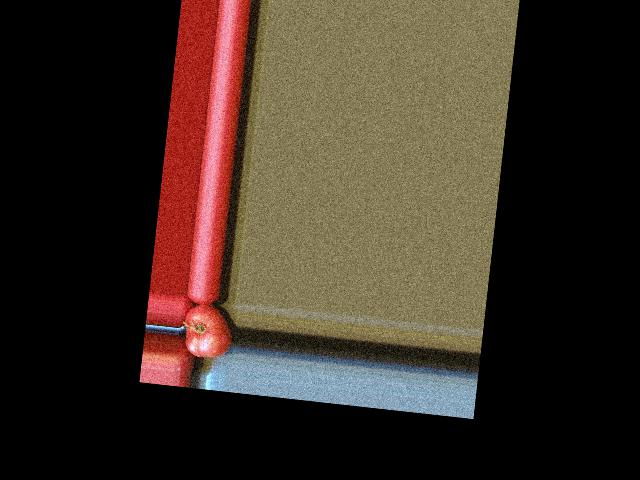tomato: (181, 302, 235, 360)
